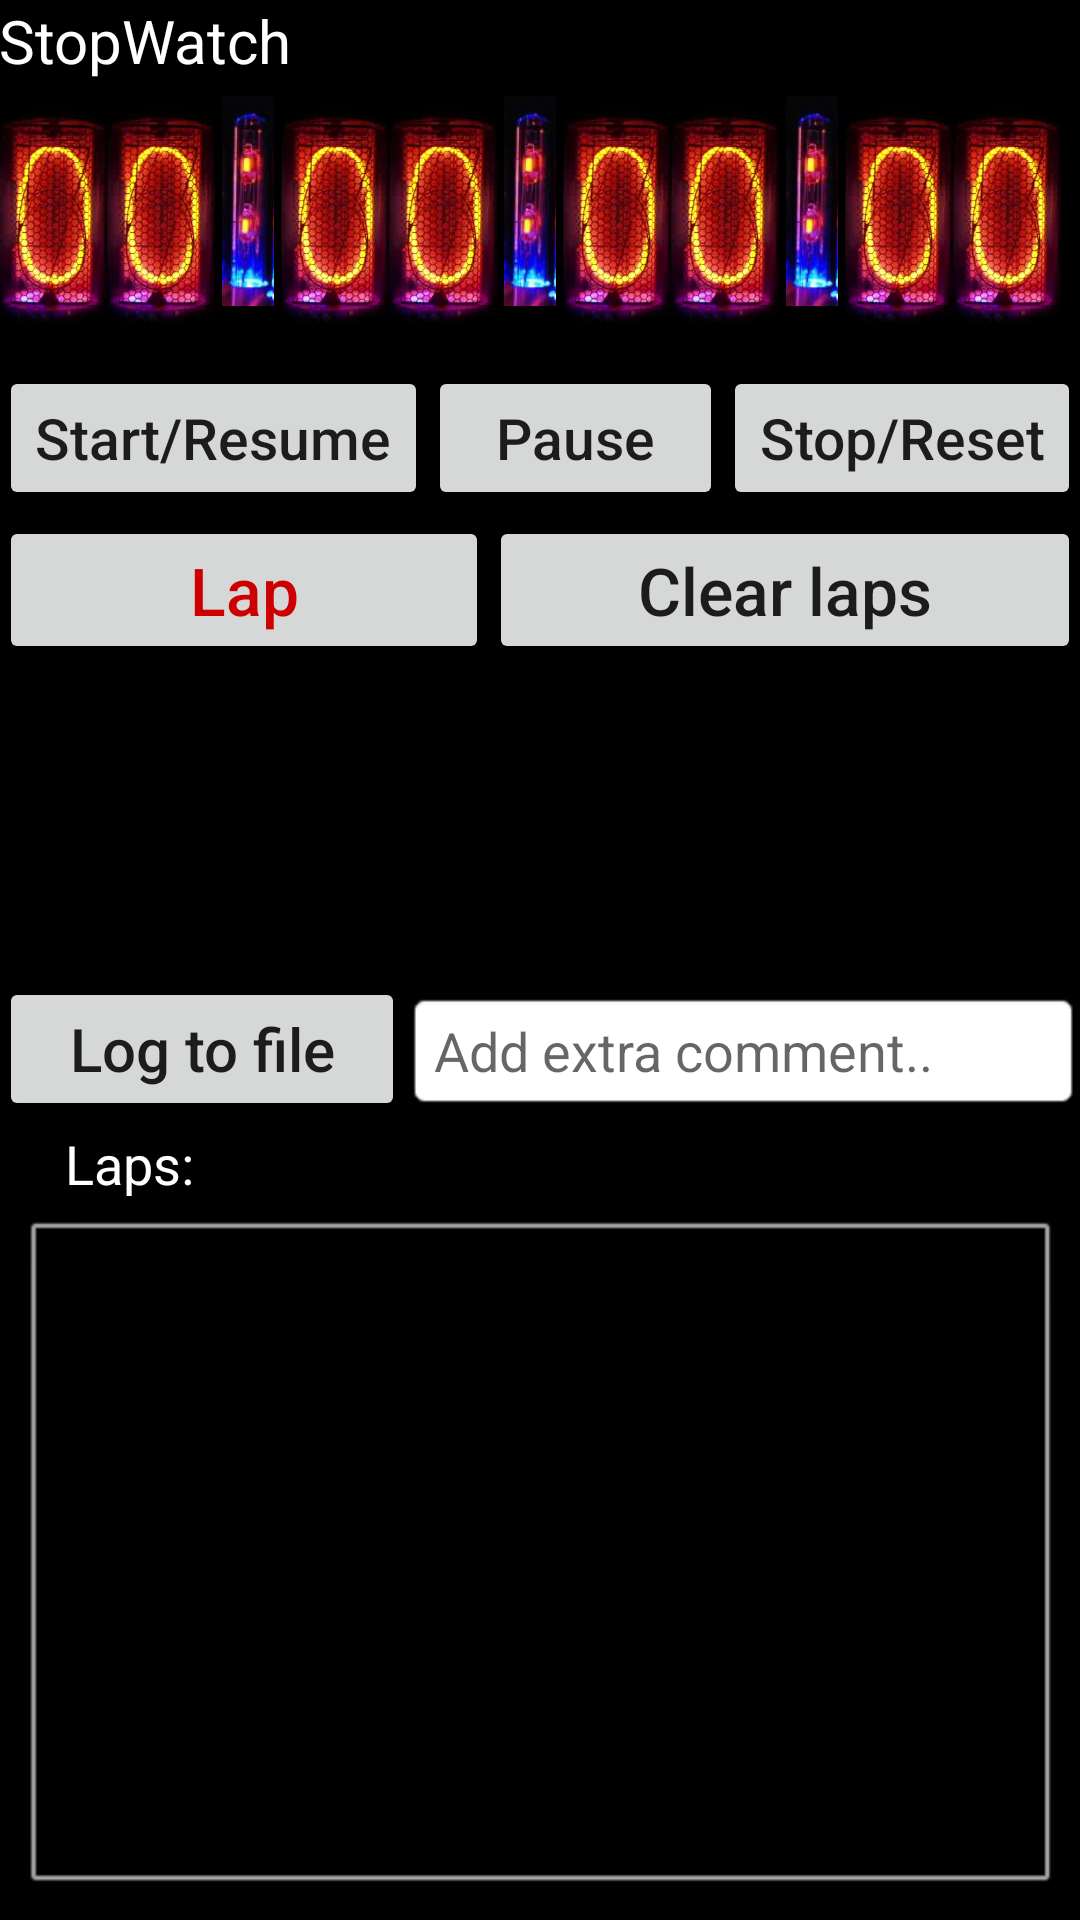

Screen size 1080w x 1920h. Icon name, then its center in pixels as [x,y]:
led: [53,218], [161,218], [335,218], [443,218], [617,218], [725,218], [899,218], [1007,218]
separator: [248,206], [530,206], [812,206]
